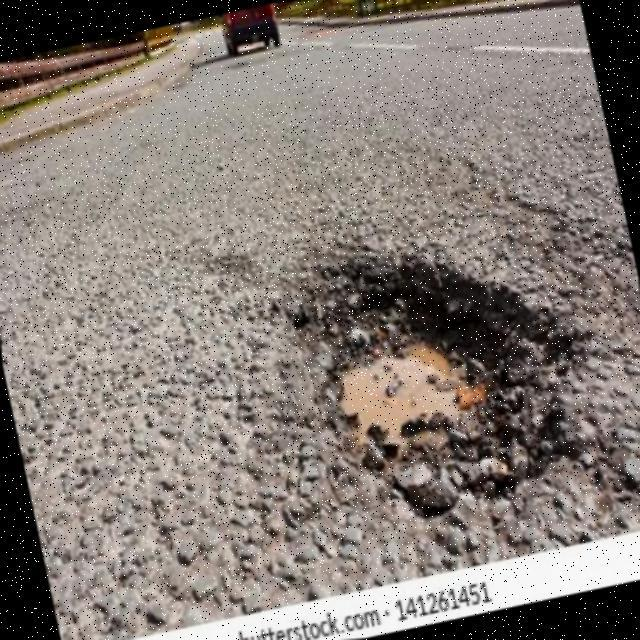Pothole: (293, 262, 575, 517)
